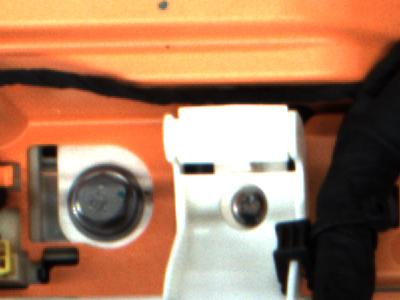nut_b: (64, 159, 149, 243)
